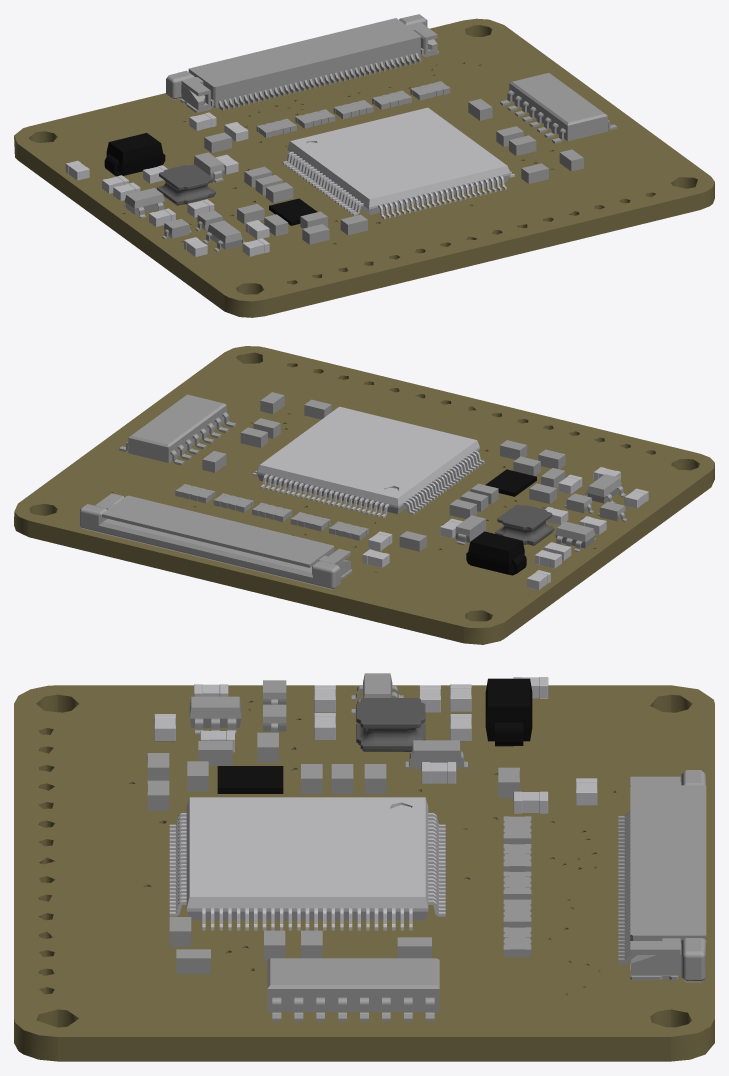
The model's file is ada-1590.glb.
3 renders of one model, top to bottom at view 1: azimuth 30°, elevation 25°; view 2: azimuth 150°, elevation 25°; view 3: azimuth 270°, elevation 25°, orthographic. The views are drawn at different scales.
Parts seen in each view (by area): view 1: 0.16666666666666666_0.16666666666666666_0.08333333333333333_, 0.3333333333333333_0.3333333333333333_0.3333333333333333_0, 0.5833333333333334_0.5833333333333334_0.5833333333333334_0.8, 0_0_0_0, 0.08333333333333333_0.08333333333333333_0.08333333333333333_; view 2: 0.16666666666666666_0.16666666666666666_0.08333333333333333_, 0.3333333333333333_0.3333333333333333_0.3333333333333333_0, 0.5833333333333334_0.5833333333333334_0.5833333333333334_0.8, 0_0_0_0, 0.08333333333333333_0.08333333333333333_0.08333333333333333_; view 3: 0.16666666666666666_0.16666666666666666_0.08333333333333333_, 0.3333333333333333_0.3333333333333333_0.3333333333333333_0, 0.5833333333333334_0.5833333333333334_0.5833333333333334_0.8, 0_0_0_0, 0.08333333333333333_0.08333333333333333_0.08333333333333333_.
Part boxes in pixels (box(x1,y1,x2,y2)): 0.16666666666666666_0.16666666666666666_0.08333333333333333_: box(14, 18, 714, 317); 0.3333333333333333_0.3333333333333333_0.3333333333333333_0: box(124, 14, 617, 251); 0.5833333333333334_0.5833333333333334_0.5833333333333334_0.8: box(65, 107, 514, 256); 0_0_0_0: box(104, 133, 317, 225); 0.08333333333333333_0.08333333333333333_0.08333333333333333_: box(157, 164, 215, 205); 0.16666666666666666_0.16666666666666666_0.08333333333333333_: box(14, 346, 714, 644); 0.3333333333333333_0.3333333333333333_0.3333333333333333_0: box(79, 392, 627, 589); 0.5833333333333334_0.5833333333333334_0.5833333333333334_0.8: box(252, 406, 648, 589); 0_0_0_0: box(466, 469, 536, 575); 0.08333333333333333_0.08333333333333333_0.08333333333333333_: box(495, 504, 554, 545); 0.16666666666666666_0.16666666666666666_0.08333333333333333_: box(14, 685, 714, 1061); 0.3333333333333333_0.3333333333333333_0.3333333333333333_0: box(147, 673, 706, 1021); 0.5833333333333334_0.5833333333333334_0.5833333333333334_0.8: box(154, 677, 597, 930); 0_0_0_0: box(217, 678, 532, 793); 0.08333333333333333_0.08333333333333333_0.08333333333333333_: box(356, 698, 425, 751).
Size of the model in its own units: 4.83 by 0.4008 by 4.06.
